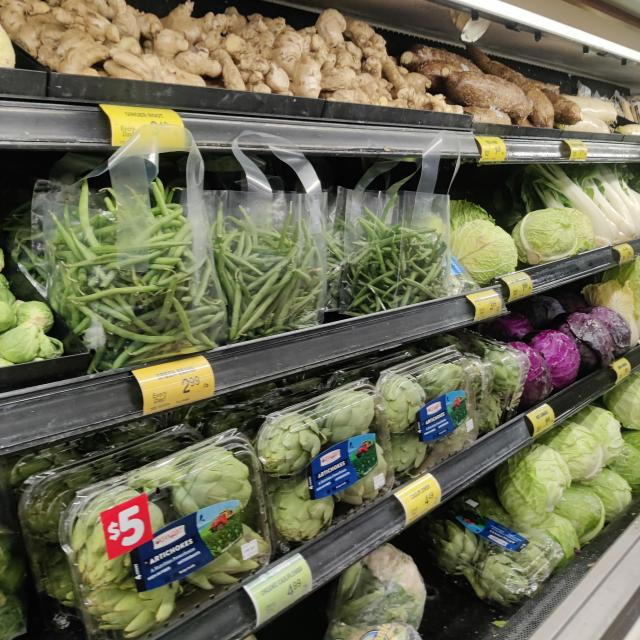Cauliflower: (326, 545, 427, 637)
Lettuce: (451, 221, 520, 284), (512, 213, 578, 265), (555, 209, 595, 252)
